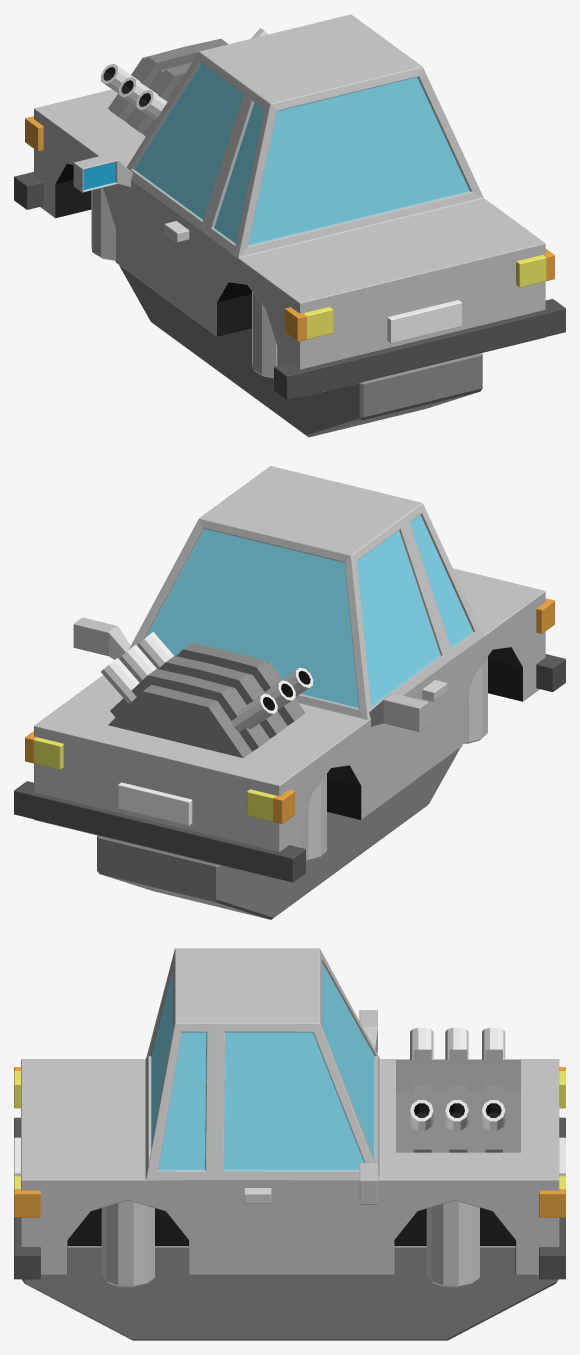
File: BuggyCollider.fbx
3 renders of one model, top to bottom at view 1: azimuth 30°, elevation 25°; view 2: azimuth 150°, elevation 25°; view 3: azimuth 270°, elevation 25°, orthographic.
Visible parts, largest first — view 1: Car_Regular; view 2: Car_Regular; view 3: Car_Regular.
Boxes of the visible parts, <box> form: Car_Regular: <box>14,14,565,437</box>; Car_Regular: <box>14,466,565,919</box>; Car_Regular: <box>14,948,565,1340</box>.
Size of what is drawn, in the model's own units: 282 by 251 by 385.
